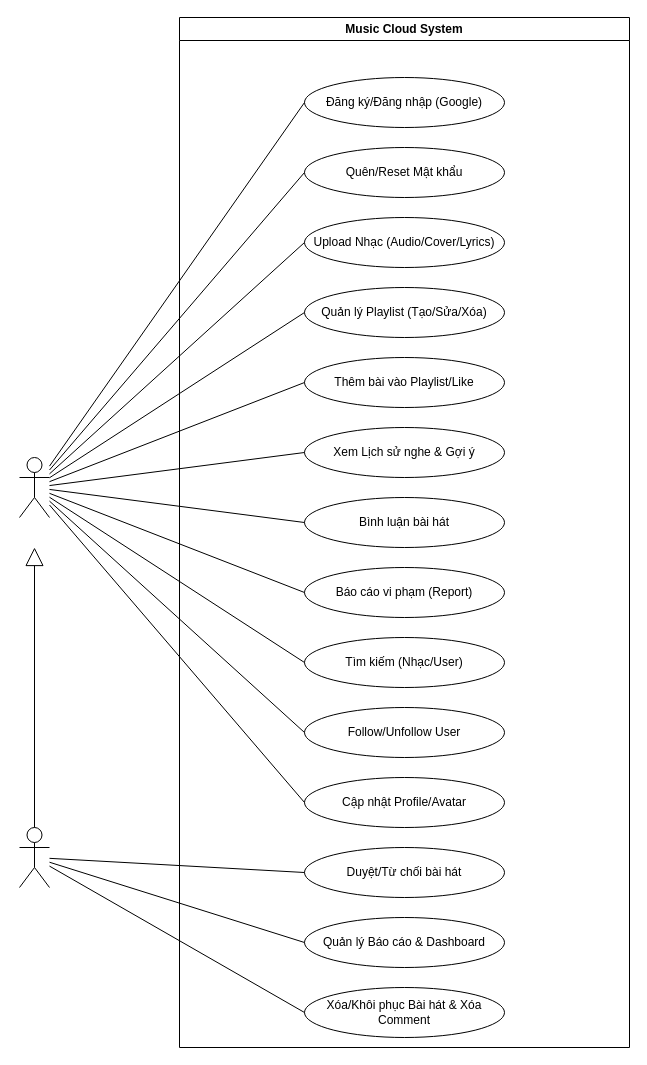
The diagram is 647 pixels wide and 1065 high, and some of its shapes have lost their labels. The centre of each missing label's shape, as x and y in pixels:
Admin: the point at 34,857
User: the point at 34,487
